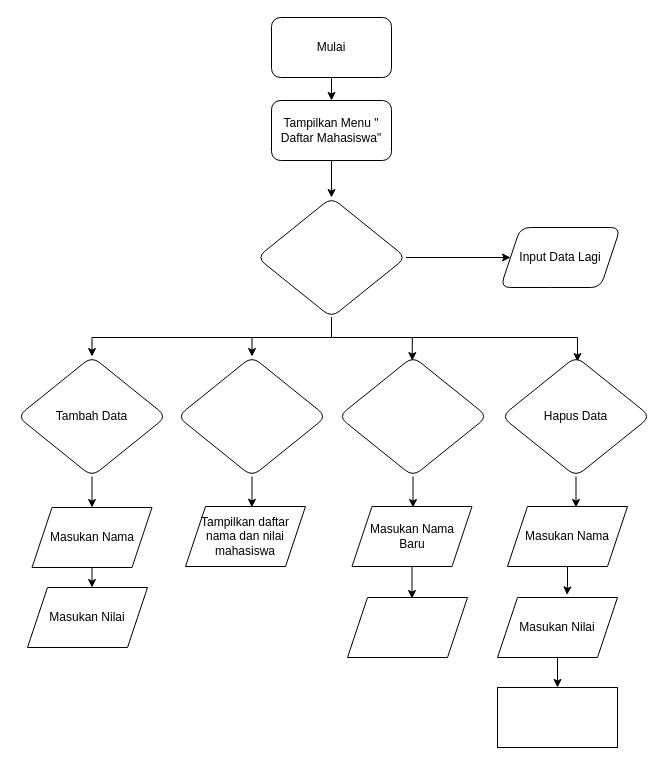
Some shapes in this 668 by 765 pixel diagram are drawn without their labels. Here are the shapes that lost their labels. From the top down, the box of each, then its label:
(256, 196, 406, 318): Tambah data, Tampilkan data,Hapus data, Ubah Data
(176, 356, 326, 476): Tampilkan Data
(338, 356, 488, 476): Ubah Data
(346, 596, 468, 658): Masukan Nilai Baru
(496, 686, 618, 748): Hapus
